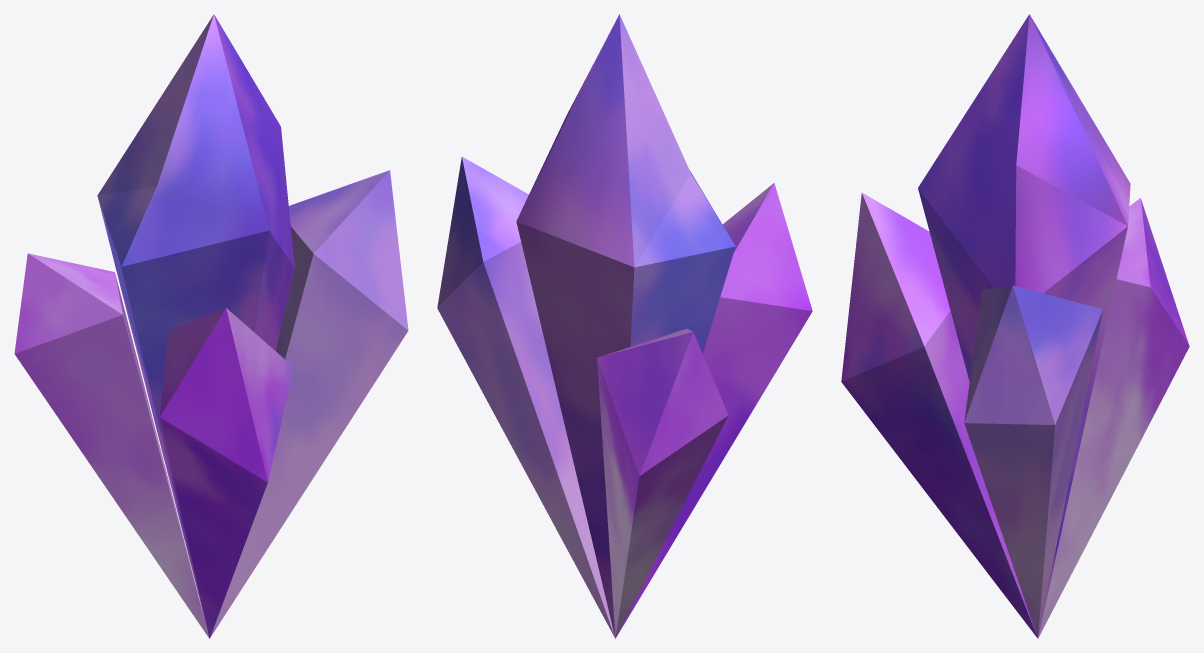
File: rockface_natural_crystalsmall01.FBX
3 renders of one model, left to right at view 1: azimuth 30°, elevation 25°; view 2: azimuth 150°, elevation 25°; view 3: azimuth 270°, elevation 25°, orthographic.
Visible parts, largest first — view 1: rockface_natural_crystalsmall01; view 2: rockface_natural_crystalsmall01; view 3: rockface_natural_crystalsmall01.
Boxes of the visible parts, x1,y1,x2,y2 form: rockface_natural_crystalsmall01: (14, 14, 408, 638); rockface_natural_crystalsmall01: (437, 14, 812, 638); rockface_natural_crystalsmall01: (841, 14, 1189, 638).
Bounding box in the file's own units: 0.5484 × 1.01 × 0.5099.
